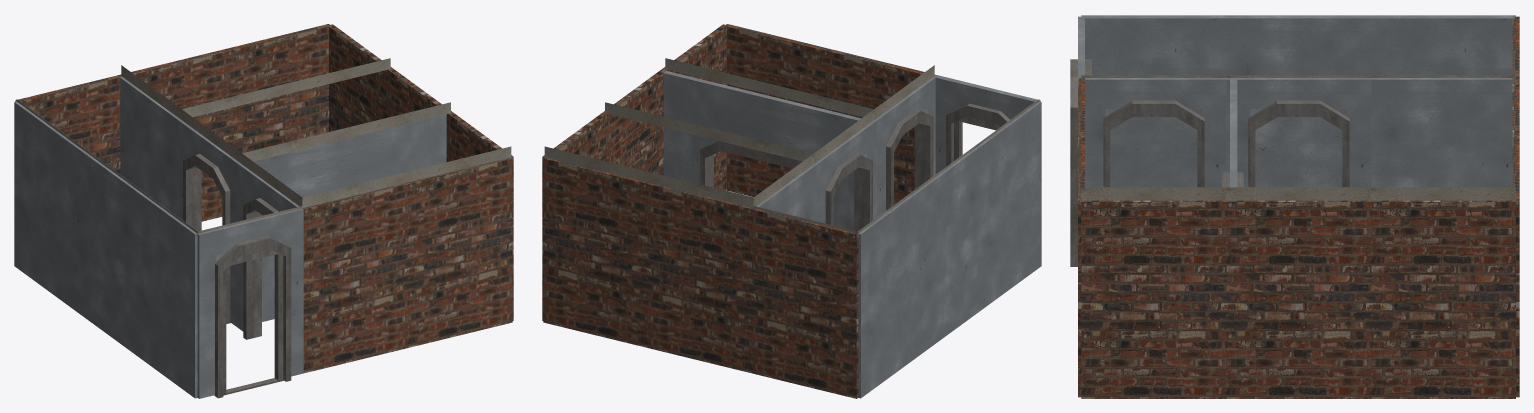
The model's file is world01_building01.glb.
3 renders of one model, left to right at view 1: azimuth 30°, elevation 25°; view 2: azimuth 150°, elevation 25°; view 3: azimuth 270°, elevation 25°, orthographic. The views are drawn at different scales.
Parts seen in each view (by area): view 1: Ceil.004; view 2: Ceil.004; view 3: Ceil.004.
Part boxes in pixels (left/top/right/bottom): Ceil.004: left=14, top=24, right=513, bottom=398; Ceil.004: left=542, top=24, right=1041, bottom=398; Ceil.004: left=1070, top=15, right=1519, bottom=398.
Size of the model in its own units: 6.1 by 3.24 by 6.21.
Materials: 4 (4 with a texture image).
